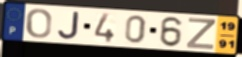0: (124, 13, 148, 45)
4: (93, 12, 117, 44)
6: (158, 16, 185, 49)
J: (57, 11, 81, 41)
O: (25, 8, 53, 40)
Z: (185, 16, 217, 51)
